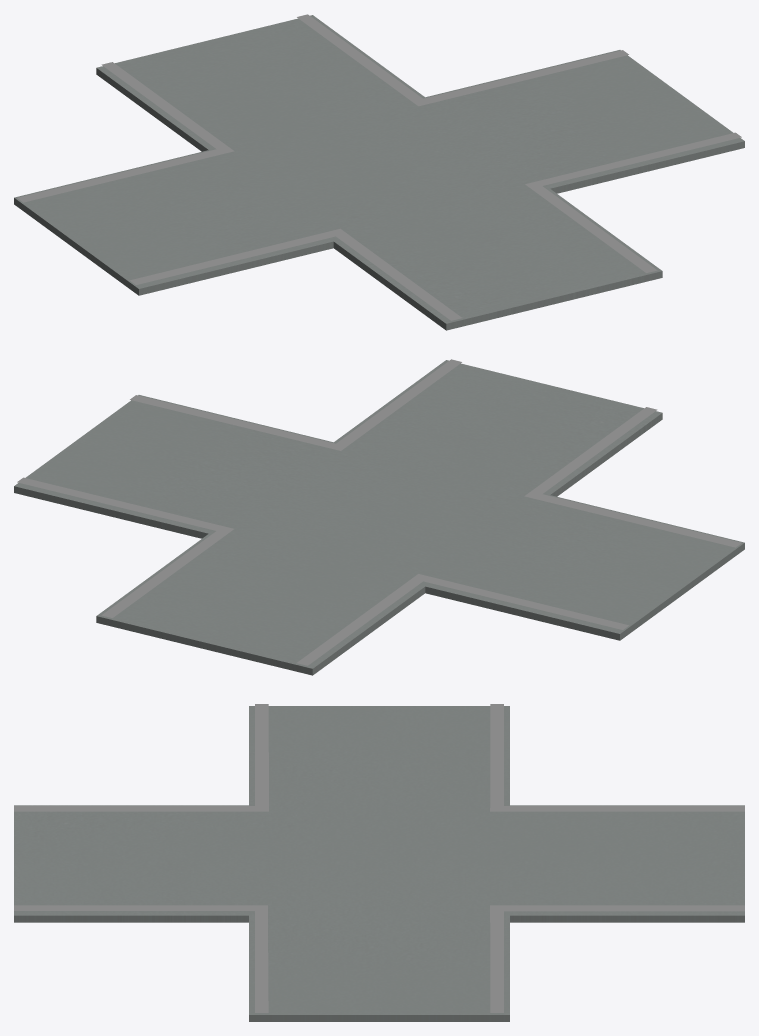
The model's file is Road_Cross.fbx.
The picture shows the model from 3 angles, top to bottom: view 1: azimuth 30°, elevation 25°; view 2: azimuth 150°, elevation 25°; view 3: azimuth 270°, elevation 25°; orthographic projection. The views are drawn at different scales.
Parts seen in each view (by area): view 1: Road_Cross; view 2: Road_Cross; view 3: Road_Cross.
Part boxes in pixels (x1=…): Road_Cross: x1=14, y1=14, x2=744, y2=330; Road_Cross: x1=14, y1=359, x2=744, y2=675; Road_Cross: x1=14, y1=704, x2=744, y2=1021.
Bounding box in the file's own units: 1500 × 20.28 × 1500.
